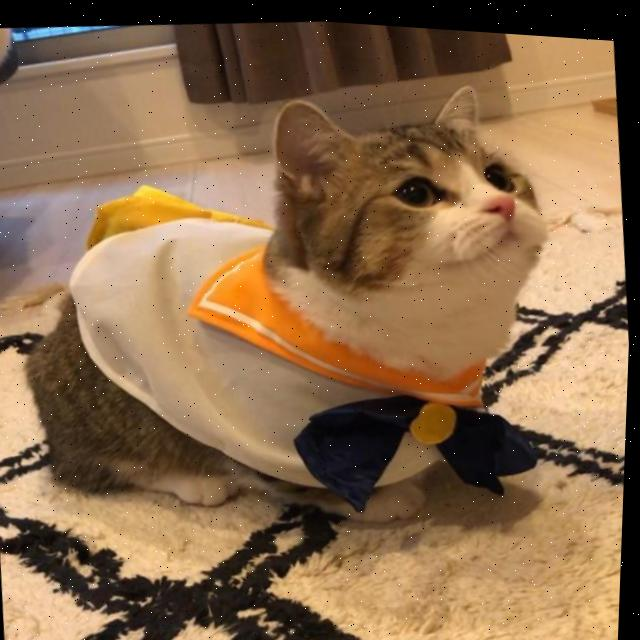Cats: (0, 34, 616, 553)
